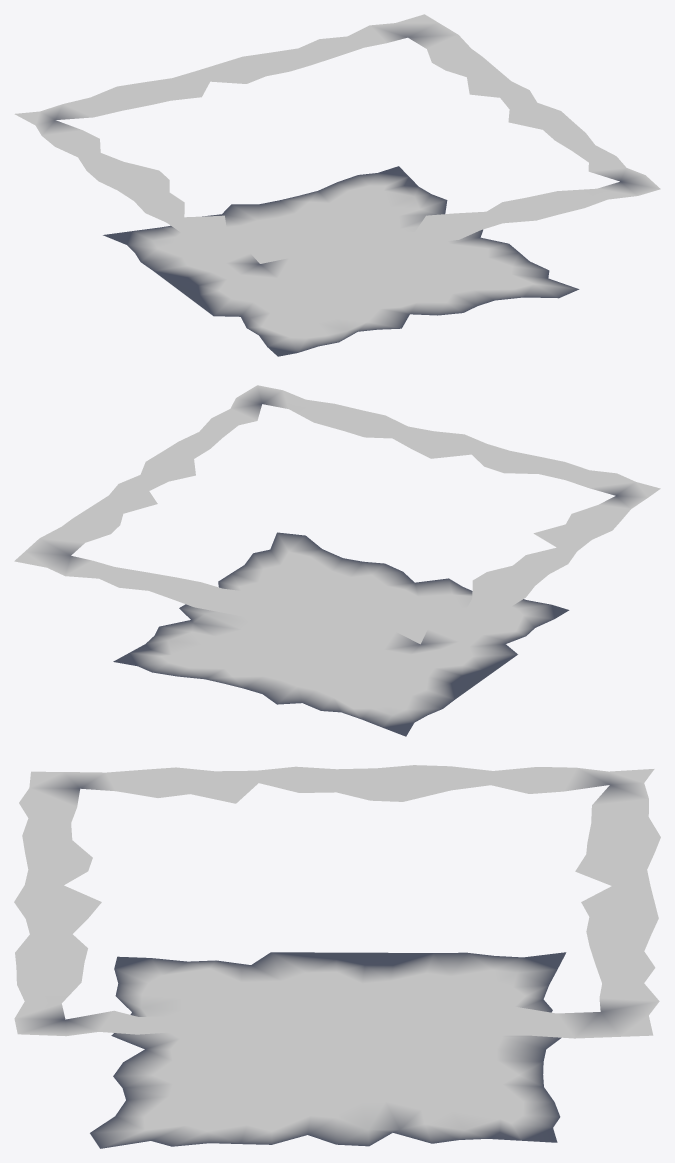
The model's file is Level1.Grass.obj.
The picture shows the model from 3 angles, top to bottom: view 1: azimuth 30°, elevation 25°; view 2: azimuth 150°, elevation 25°; view 3: azimuth 270°, elevation 25°; orthographic projection. The views are drawn at different scales.
Visible parts, largest first — view 1: Plane; view 2: Plane; view 3: Plane.
Boxes of the visible parts, x1,y1,x2,y2 form: Plane: (14, 14, 660, 356); Plane: (14, 385, 660, 736); Plane: (14, 765, 660, 1148).
Size of the model in its own units: 39.81 by 10 by 39.8.
